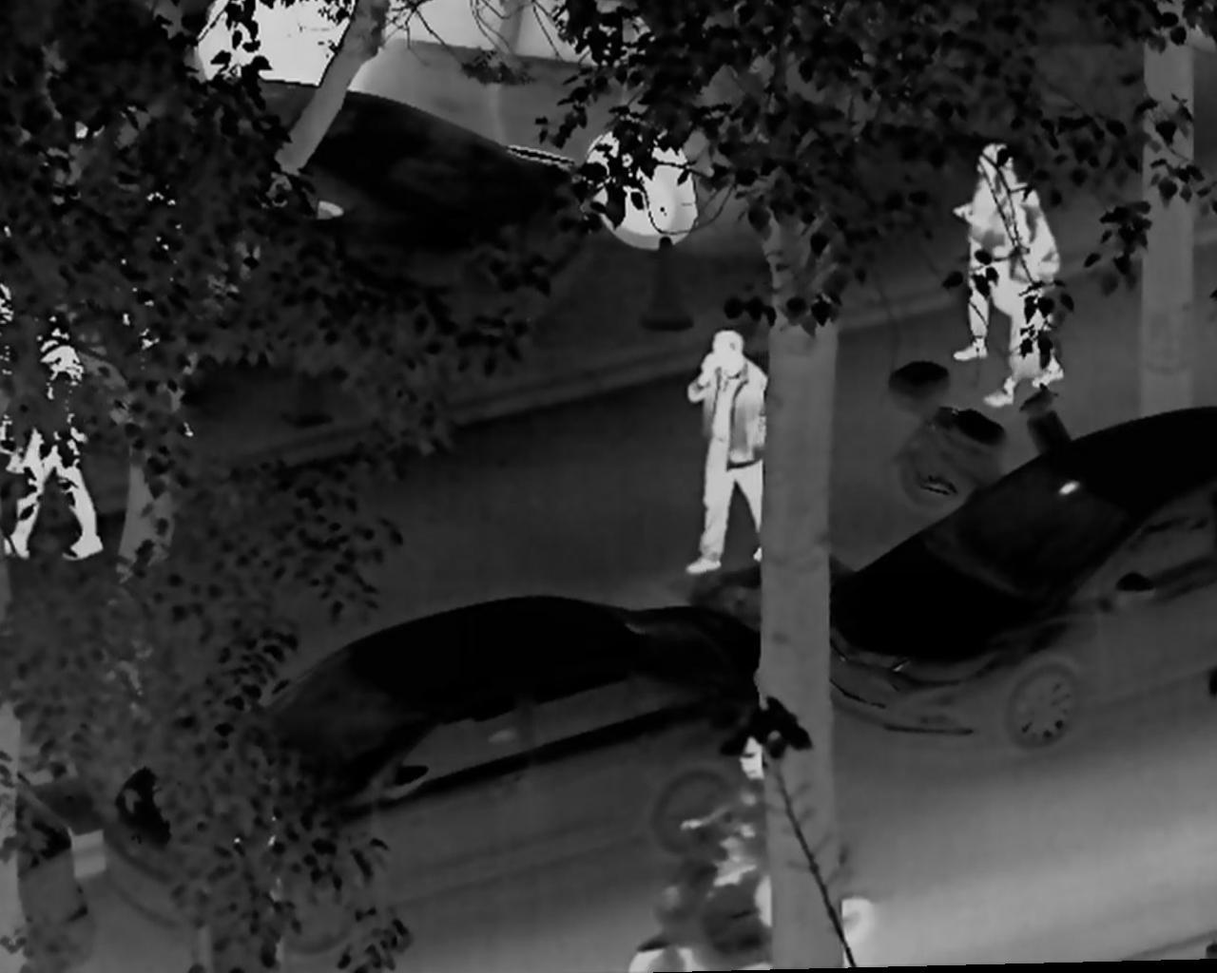person: (97, 154, 193, 435), (680, 324, 770, 582), (981, 176, 1076, 410), (677, 728, 779, 936), (946, 140, 1036, 370), (2, 265, 30, 478)
